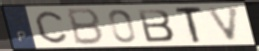0: (107, 8, 138, 44)
B: (66, 7, 106, 47), (135, 8, 176, 44)
C: (34, 9, 70, 44)
T: (174, 5, 205, 45)
V: (205, 5, 242, 43)
